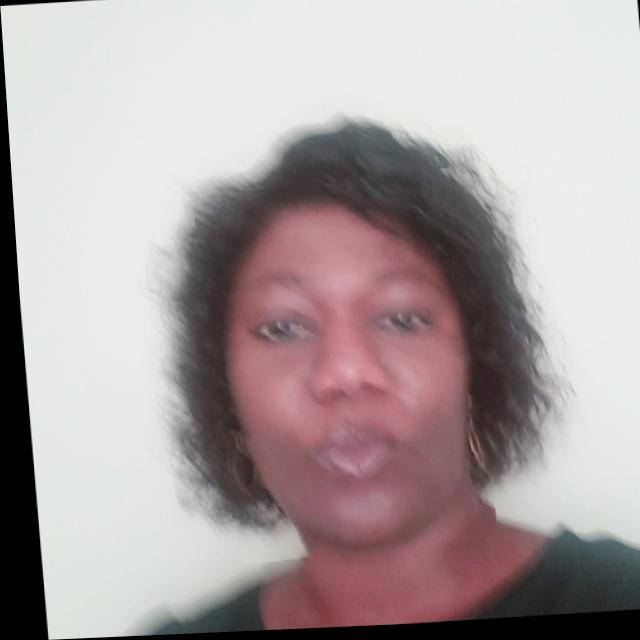happy: (193, 174, 487, 564)
